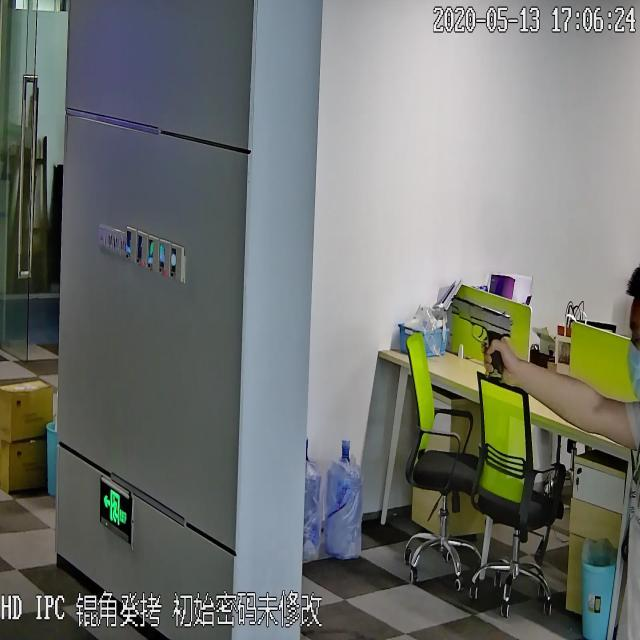gun: (449, 289, 513, 384)
